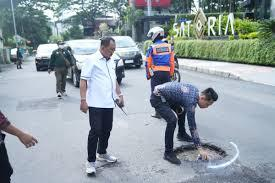Pothole: (170, 137, 239, 175)
